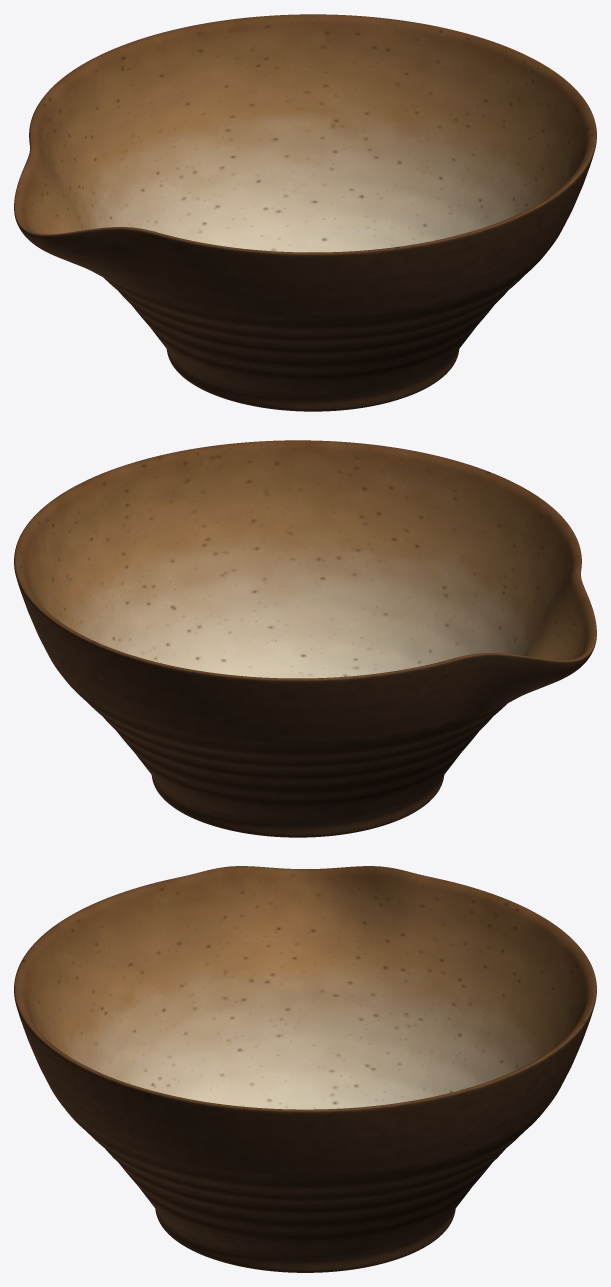
The model's file is chawan-matcha.glb.
The picture shows the model from 3 angles, top to bottom: view 1: azimuth 30°, elevation 25°; view 2: azimuth 150°, elevation 25°; view 3: azimuth 270°, elevation 25°; orthographic projection. The views are drawn at different scales.
Visible parts, largest first — view 1: Katakuchi_Chawan; view 2: Katakuchi_Chawan; view 3: Katakuchi_Chawan.
Part boxes in pixels (box(x1,y1,x2,y2)): Katakuchi_Chawan: box(14, 14, 596, 411); Katakuchi_Chawan: box(14, 440, 596, 837); Katakuchi_Chawan: box(14, 866, 596, 1272).
Bounding box in the file's own units: 0.1648 × 0.0642 × 0.1514.
2 materials, 2 textured.
